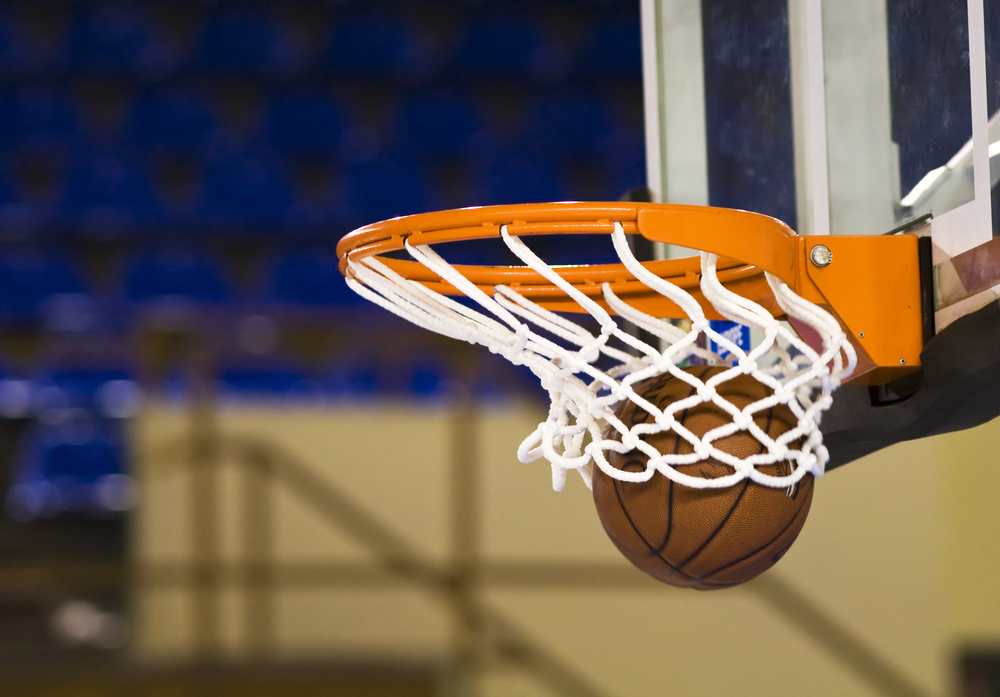MadeBasket: (337, 199, 854, 591)
